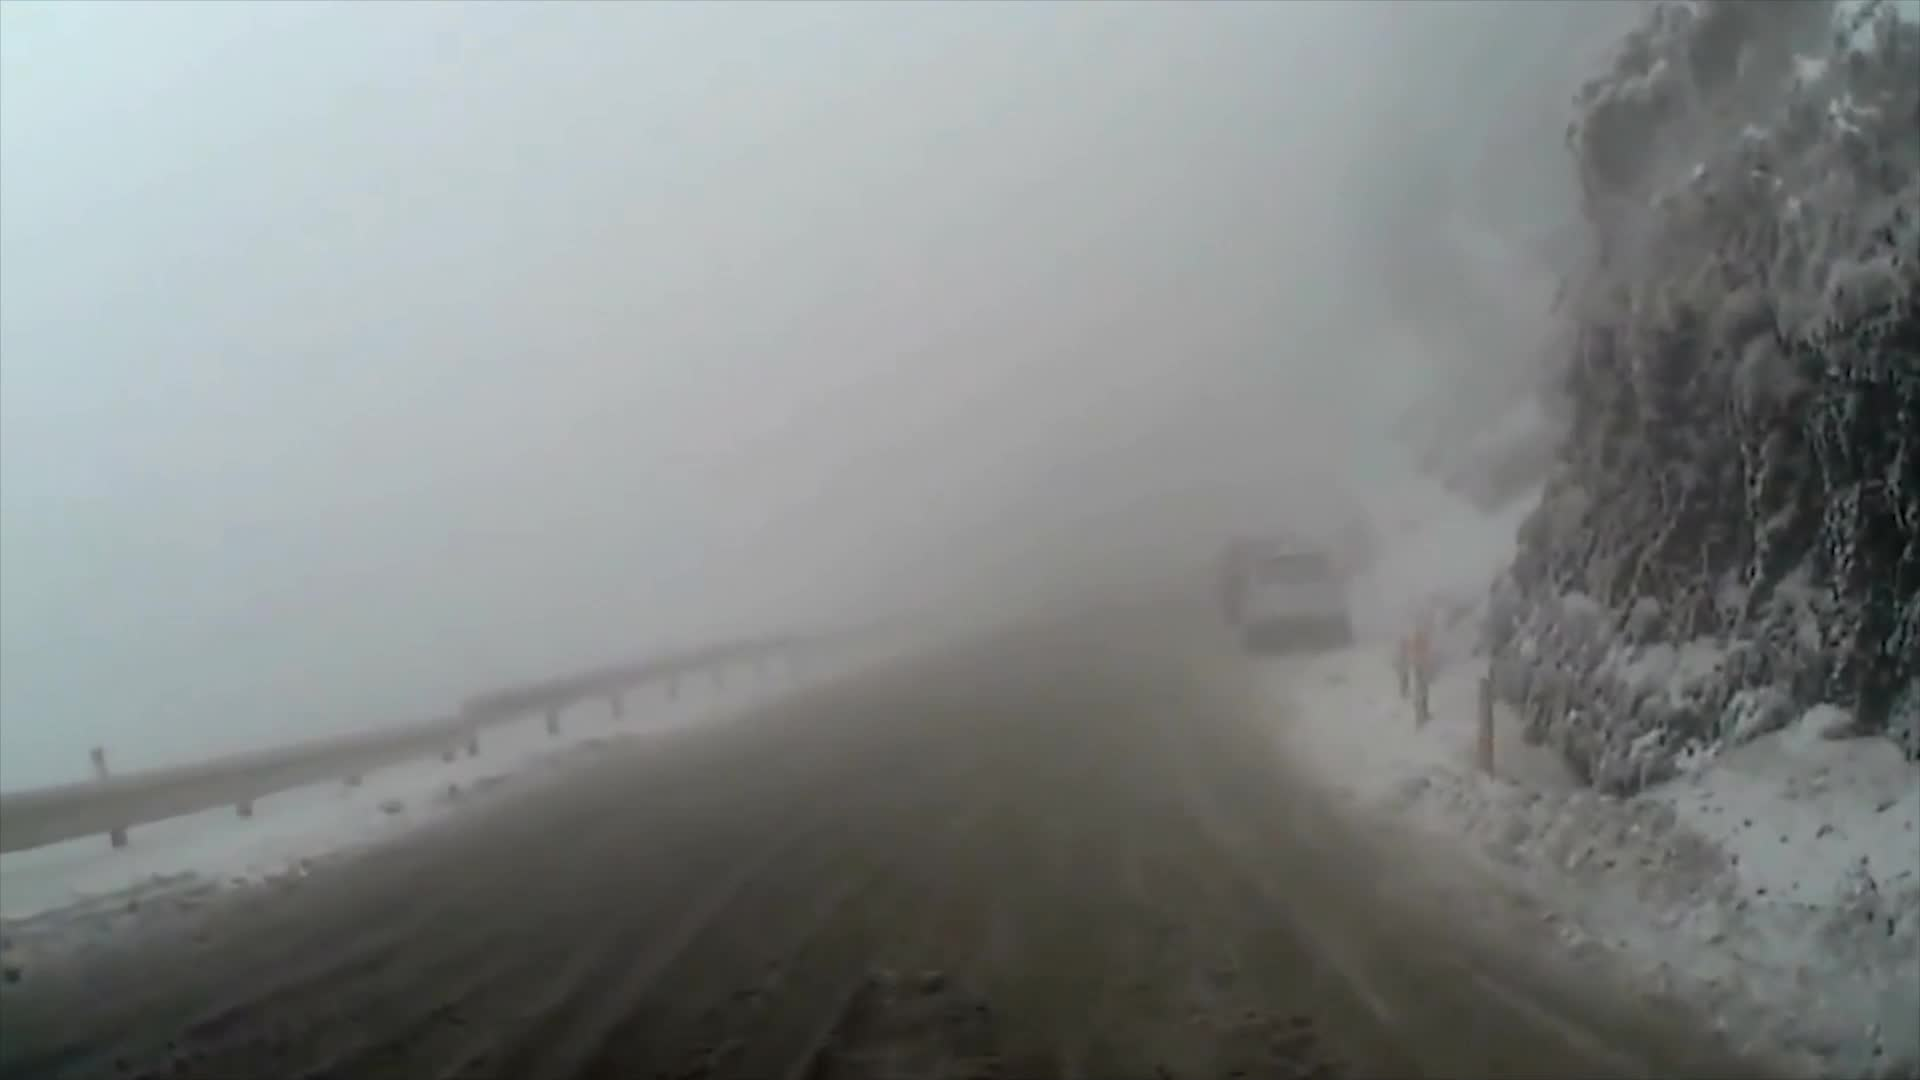vehicle: (1238, 543, 1352, 655)
